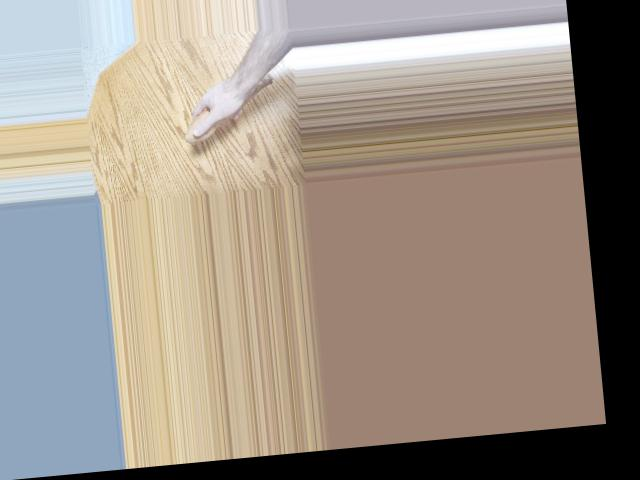sweet_potato: (178, 71, 280, 143)
